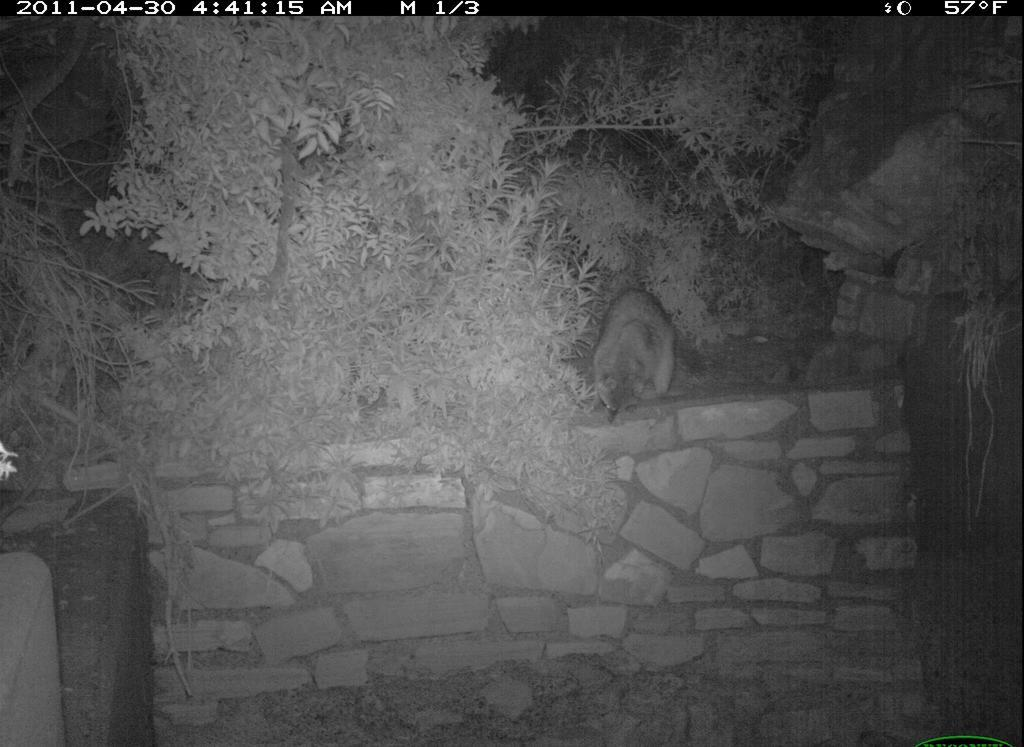raccoon: (583, 285, 684, 426)
